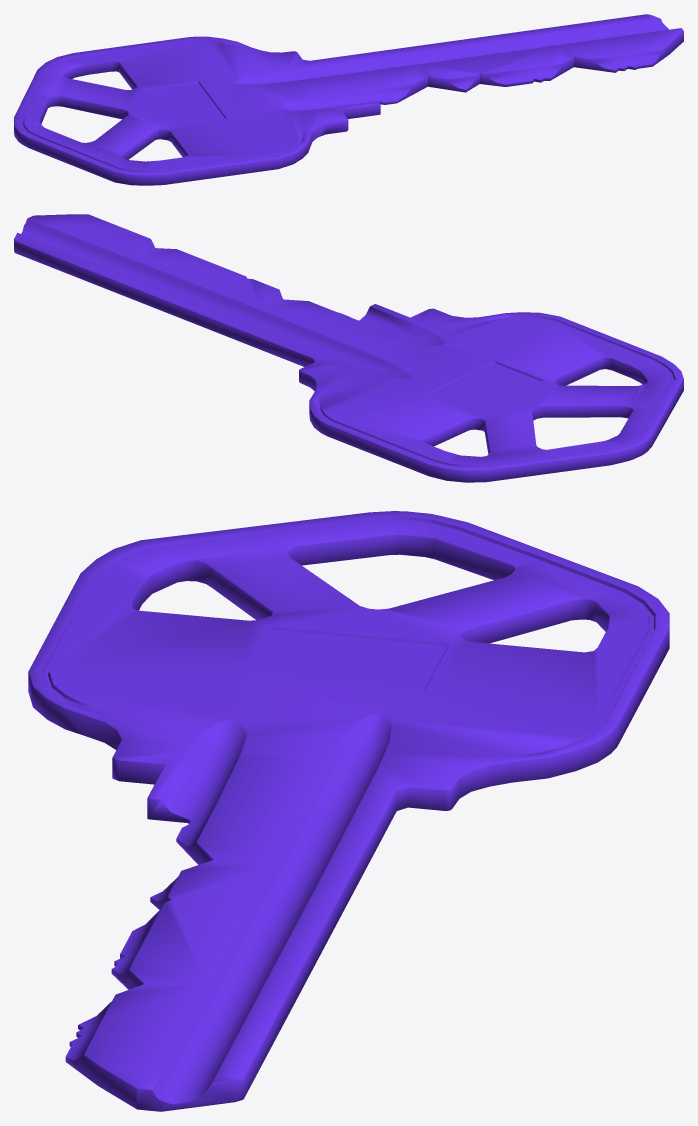
The picture shows the model from 3 angles, top to bottom: view 1: azimuth 30°, elevation 25°; view 2: azimuth 150°, elevation 25°; view 3: azimuth 270°, elevation 25°; orthographic projection. The views are drawn at different scales.
Parts seen in each view (by area): view 1: Key_002_Lo_Key 002_0; view 2: Key_002_Lo_Key 002_0; view 3: Key_002_Lo_Key 002_0.
Boxes of the visible parts, x1,y1,x2,y2 form: Key_002_Lo_Key 002_0: (14,14,683,185); Key_002_Lo_Key 002_0: (14,214,683,482); Key_002_Lo_Key 002_0: (28,511,669,1111).
Bounding box in the file's own units: 1 × 0.0225 × 0.462.
